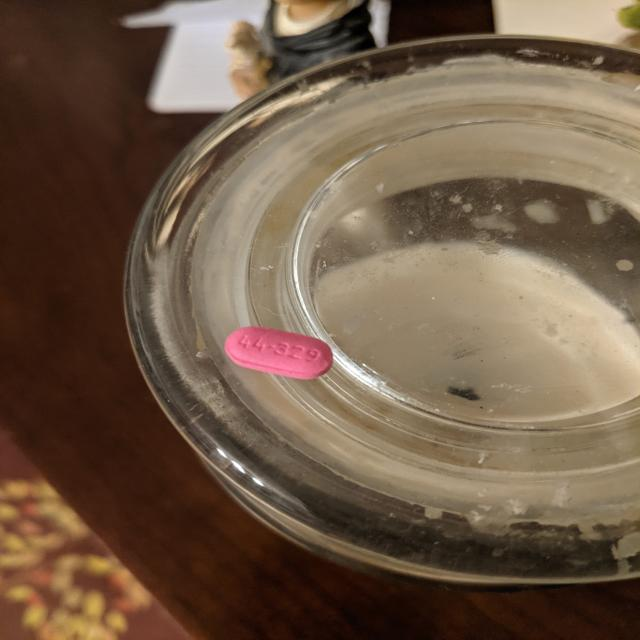non-organic waste: (223, 324, 335, 380)
